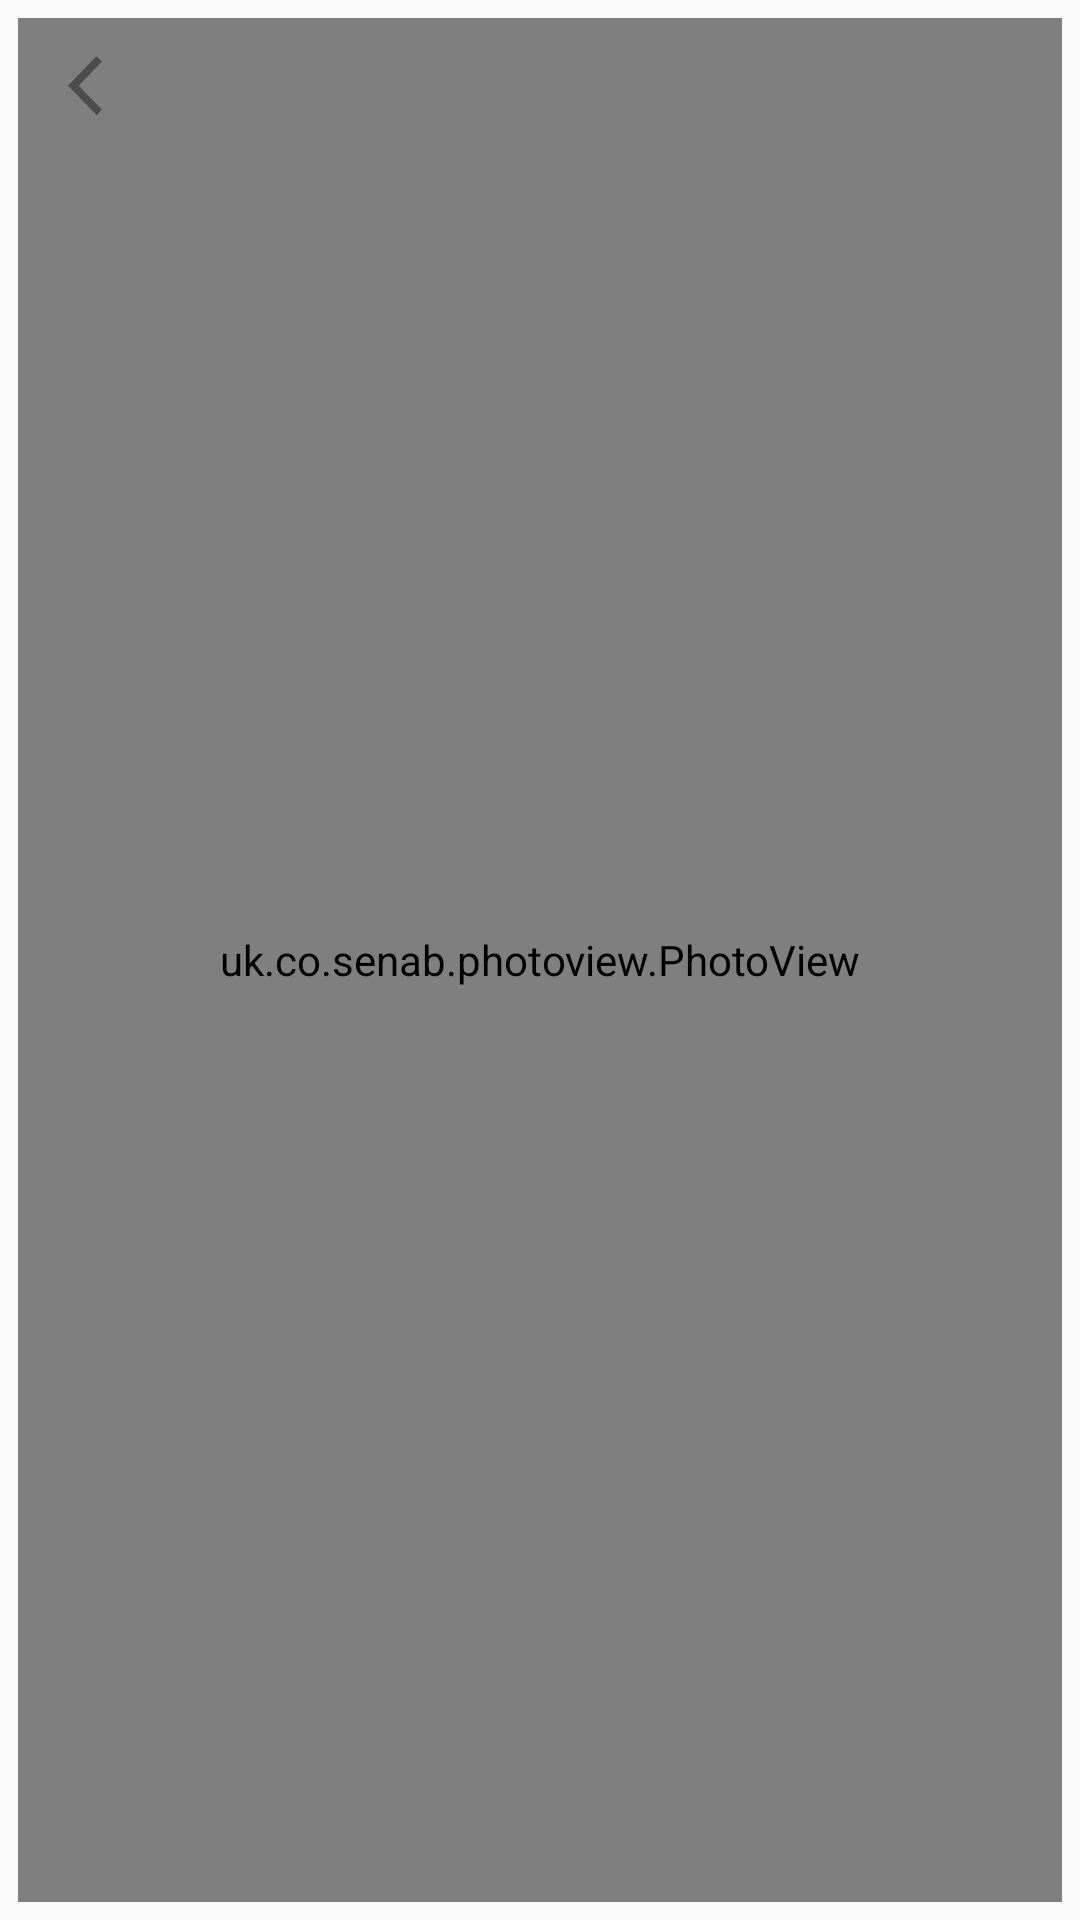

Point at icon controls on the screen. Image size 1080 × 1920, points as (x,y).
back: (85,86)
